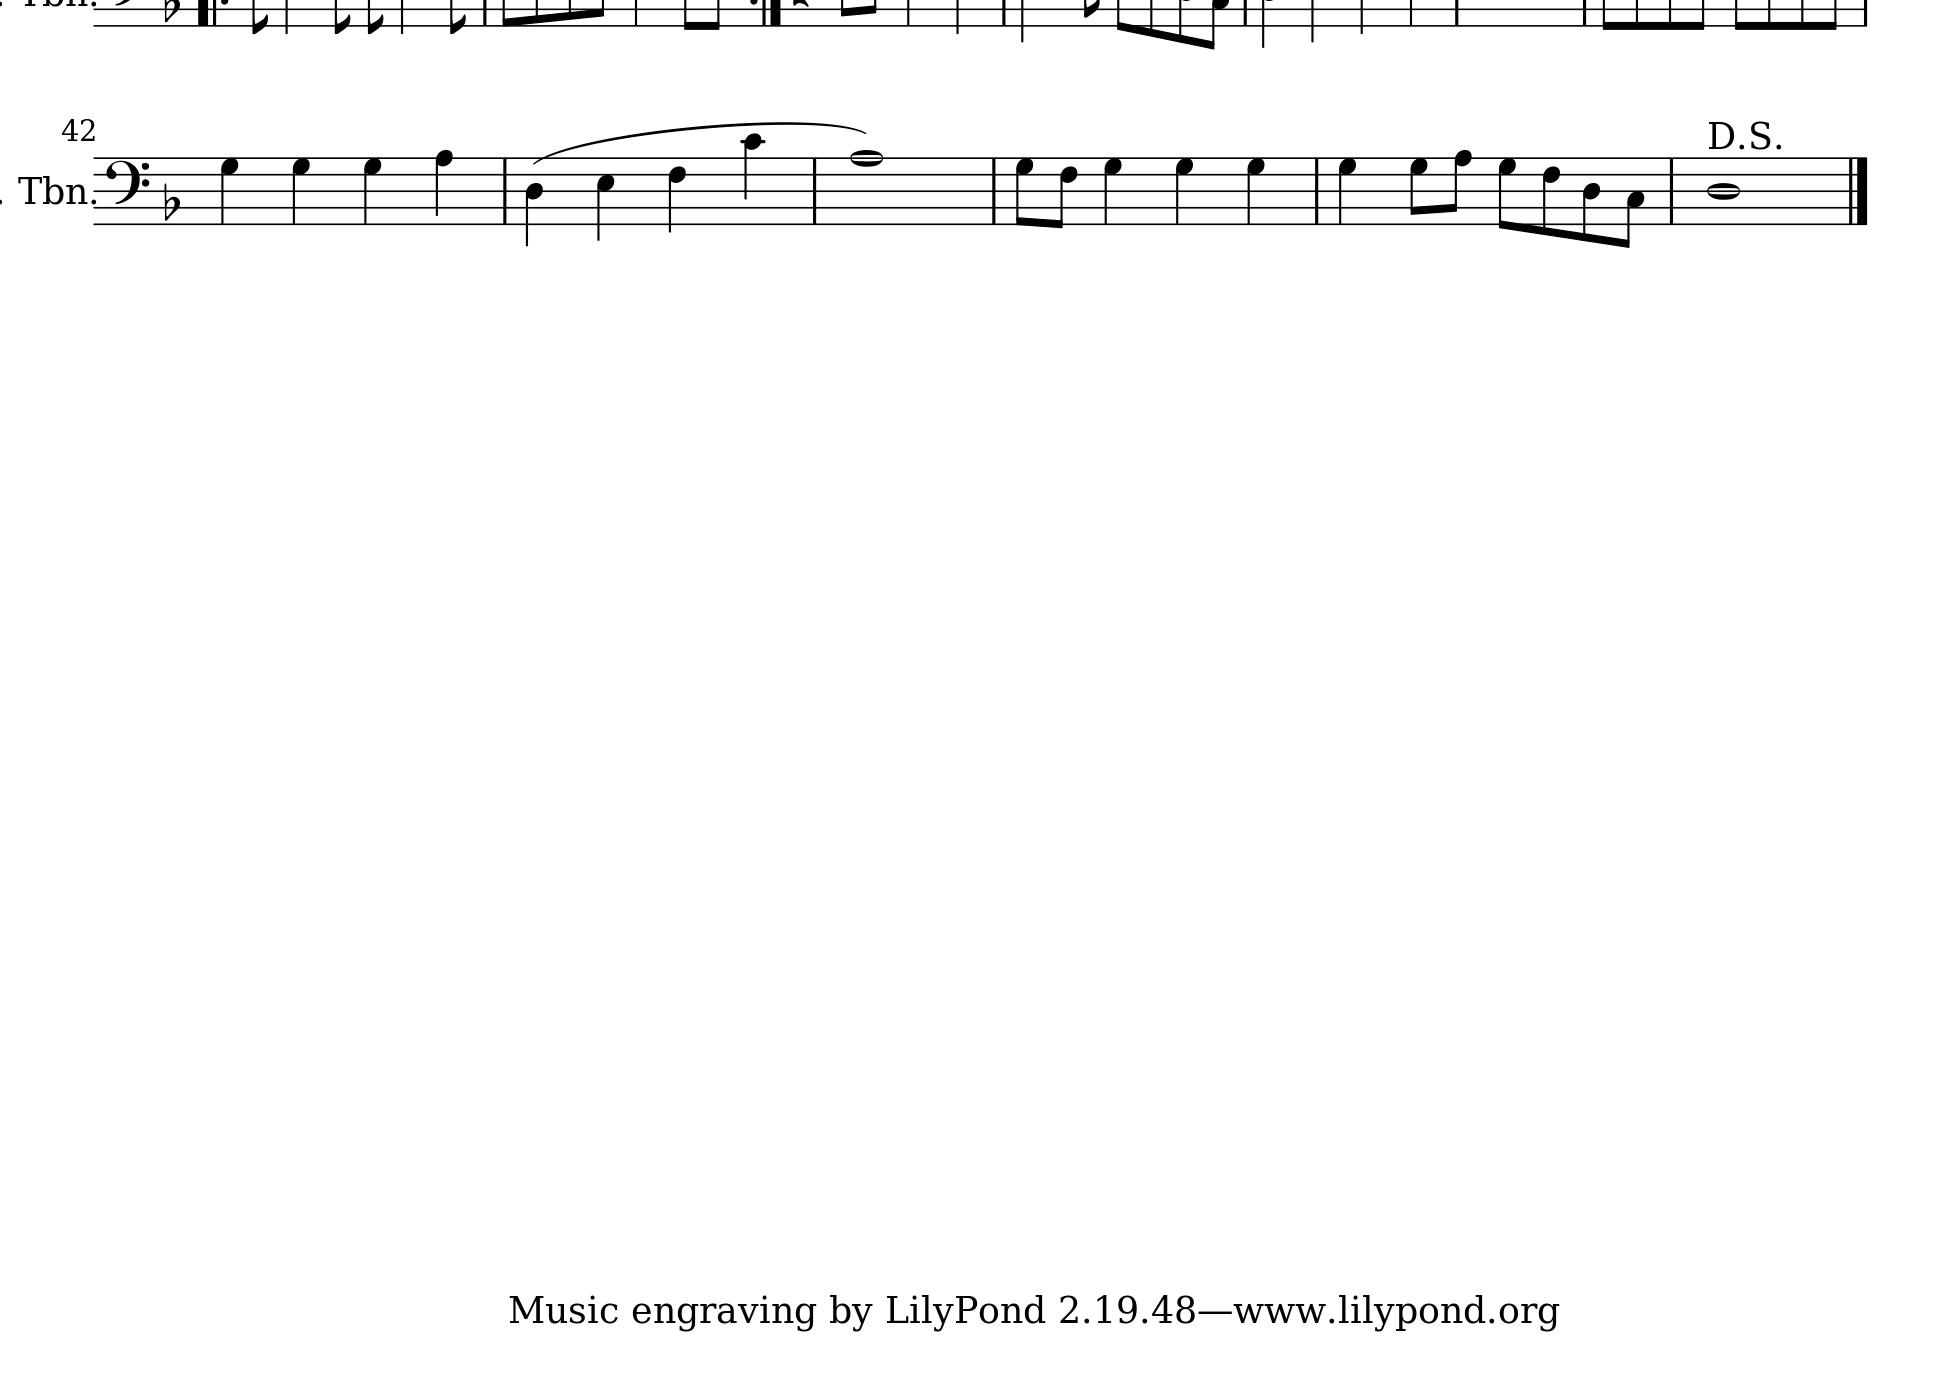1_4: (1707, 157, 1740, 225)
1_8: (849, 148, 883, 226)
2: (78, 115, 96, 142)
2_10: (739, 133, 766, 225)
2_4: (525, 157, 544, 247)
2_5: (595, 156, 615, 241)
2_6: (667, 157, 688, 234)
2_7: (363, 154, 382, 223), (1104, 157, 1123, 226), (220, 156, 238, 225), (292, 156, 310, 225), (1176, 157, 1194, 226), (1248, 156, 1266, 225), (1338, 156, 1356, 225)
2_8: (435, 148, 454, 226)
4: (61, 115, 78, 142)
8_3: (1620, 157, 1645, 249)
8_4: (1582, 157, 1602, 244)
8_6: (1056, 157, 1078, 229), (1542, 157, 1561, 237)
8_7: (1497, 157, 1519, 232), (1015, 156, 1035, 226), (1410, 156, 1429, 226)
8_8: (1449, 148, 1473, 225)
DS: (1705, 115, 1785, 151)
Fclef: (105, 157, 150, 226)
Final_barline: (1845, 156, 1872, 223)
Flat: (162, 181, 180, 220)
Single_barline: (985, 157, 1005, 223), (1308, 157, 1327, 223), (496, 157, 514, 223), (1663, 157, 1680, 225), (807, 157, 823, 223)
Tbn: (15, 174, 88, 205)
